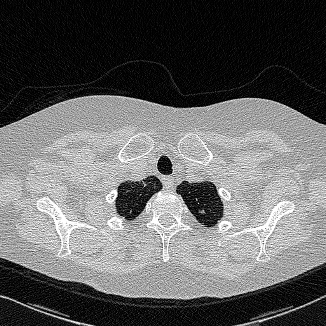nodule: (200, 209, 204, 213)
